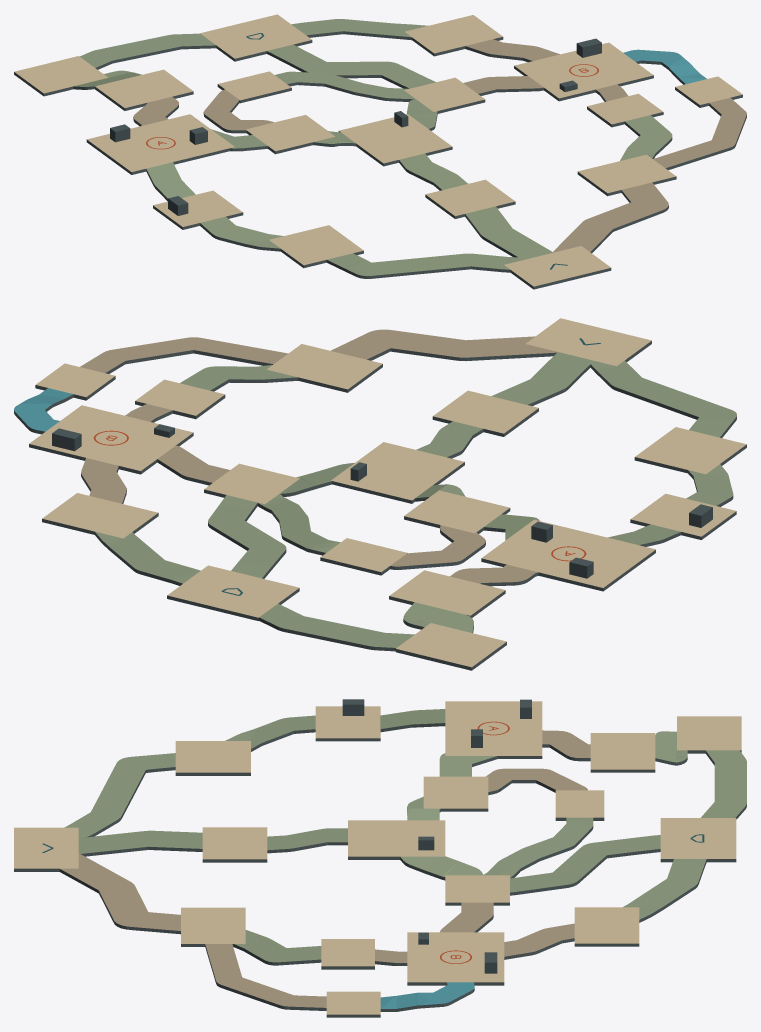
The model's file is kurukshetra.glb.
3 views of the same model, one above another, from view 1: azimuth 30°, elevation 25°; view 2: azimuth 150°, elevation 25°; view 3: azimuth 270°, elevation 25° (orthographic). The views are drawn at different scales.
Parts seen in each view (by area): view 1: Kurukshetra • continuous floor; view 2: Kurukshetra • continuous floor; view 3: Kurukshetra • continuous floor.
Boxes of the visible parts, box(x1,y1,x2,y2) form: Kurukshetra • continuous floor: box(14, 14, 746, 289); Kurukshetra • continuous floor: box(14, 318, 746, 670); Kurukshetra • continuous floor: box(14, 701, 746, 1017).
Bounding box in the file's own units: 131 × 7.05 × 136.
